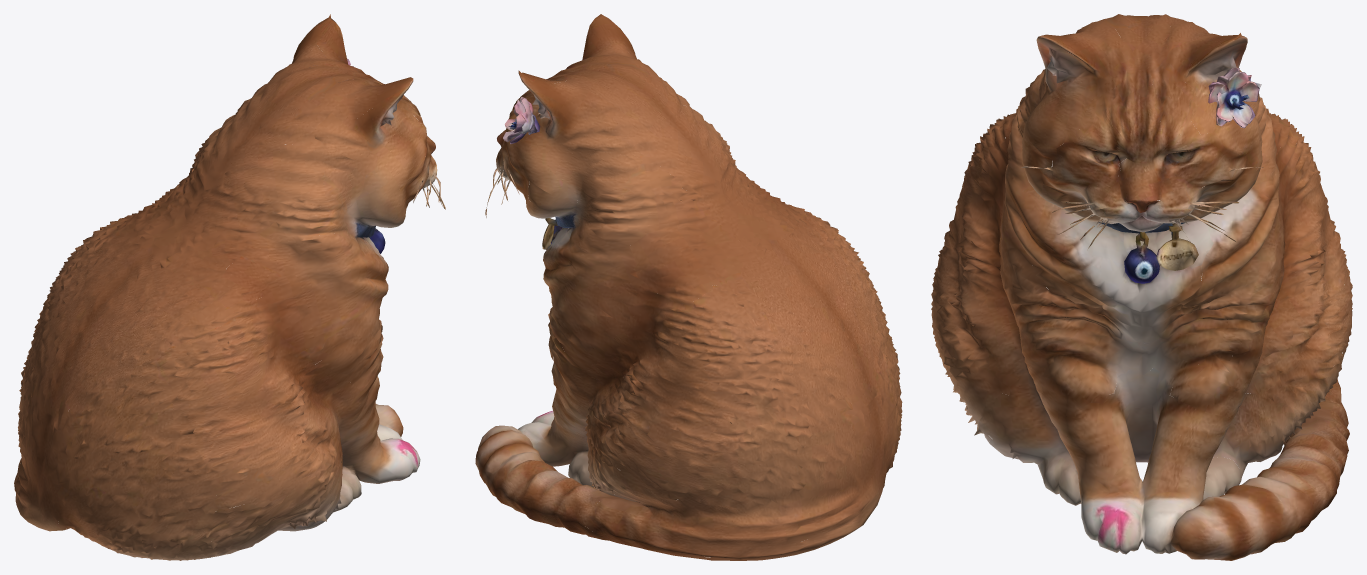
File: cat.glb
3 views of the same model, side by side, from view 1: azimuth 30°, elevation 25°; view 2: azimuth 150°, elevation 25°; view 3: azimuth 270°, elevation 25° (orthographic). The views are drawn at different scales.
Visible parts, largest first — view 1: tripo_node_ad4d6de3-8758-414c-9b16-a919c9b8dbf8; view 2: tripo_node_ad4d6de3-8758-414c-9b16-a919c9b8dbf8; view 3: tripo_node_ad4d6de3-8758-414c-9b16-a919c9b8dbf8.
Boxes of the visible parts, x1,y1,x2,y2 form: tripo_node_ad4d6de3-8758-414c-9b16-a919c9b8dbf8: (14,14,445,560); tripo_node_ad4d6de3-8758-414c-9b16-a919c9b8dbf8: (475,14,902,560); tripo_node_ad4d6de3-8758-414c-9b16-a919c9b8dbf8: (931,14,1352,560).
Bounding box in the file's own units: 0.9529 × 1 × 0.7471.
Materials: 1 (1 with a texture image).
